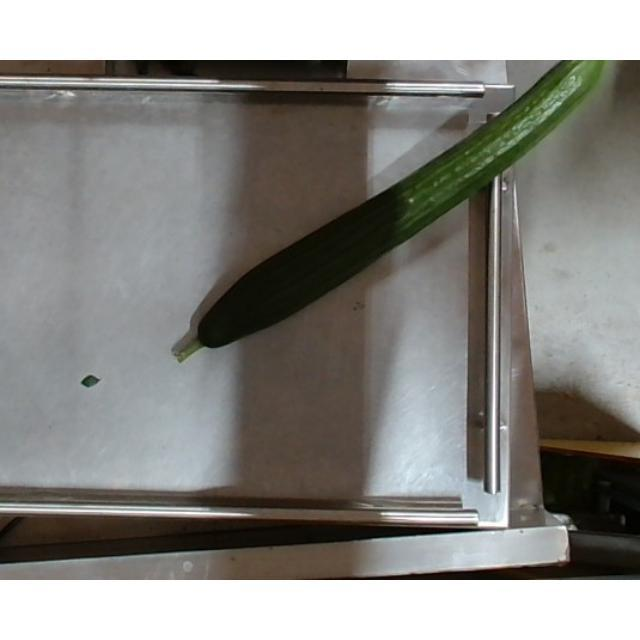cucumber: (177, 60, 606, 360)
